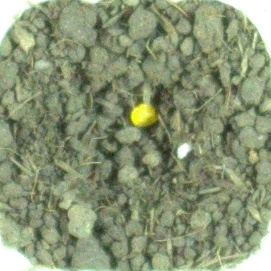pepper seed: (50, 38, 210, 166)
